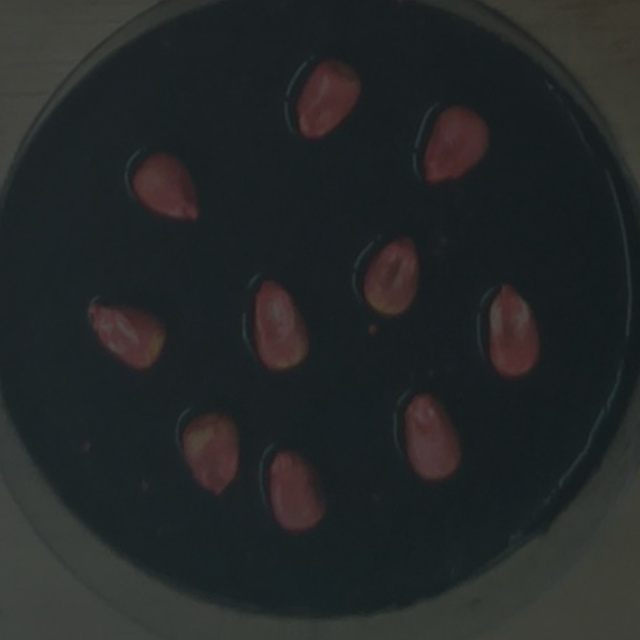Zea mays: (411, 96, 498, 193), (244, 268, 320, 379), (286, 48, 369, 146), (79, 290, 173, 376), (397, 379, 469, 487), (478, 274, 548, 383), (175, 401, 248, 502), (123, 141, 206, 229), (263, 438, 334, 540), (354, 225, 428, 322)
